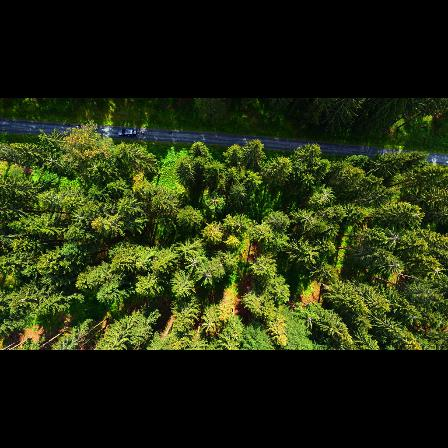Sick: (381, 223, 406, 253), (178, 255, 204, 275)
